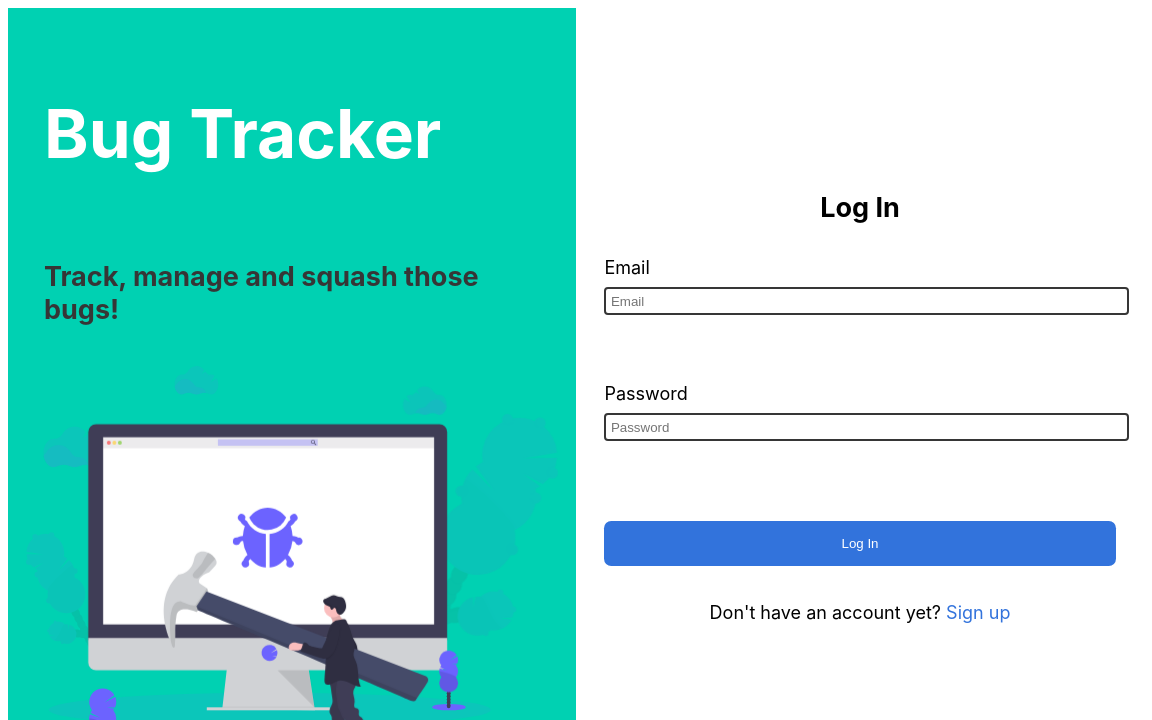
Test: Login Page › form validation - required fields
What coordinates should you click on to do the following:
click the button with test id "submit-login"
I would click on:
 (860, 544)
Its box is [604,521,1115,566].
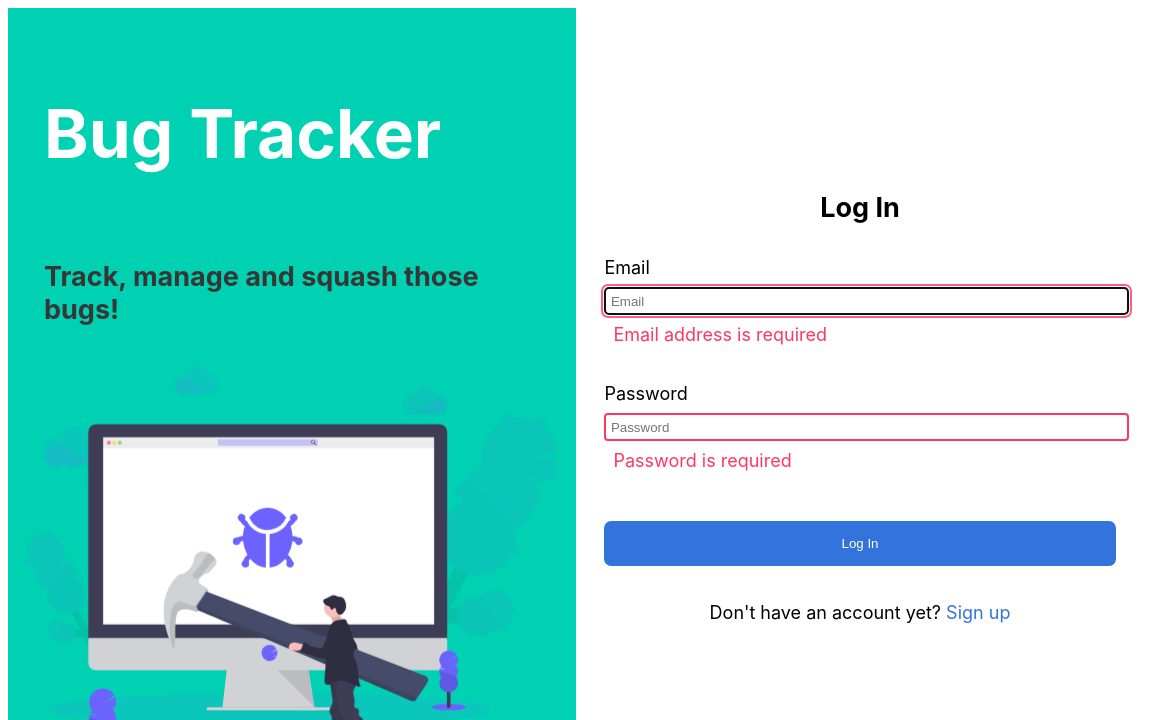
Check: the text "Email address is required" is shown, box [613,324,827,345]
Check: the text "Password is required" is shown, box [613,450,792,471]
